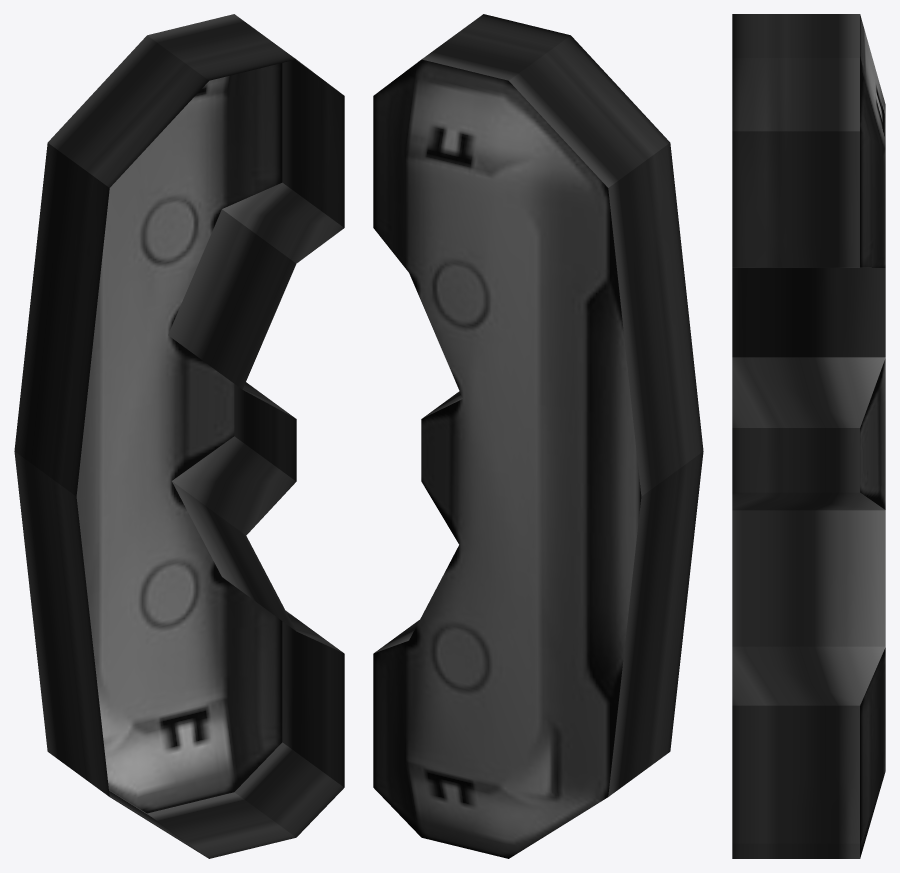
File: gallo99_caliperstock_fl_rb1c_tire_1k_0.001_lev3.glb
3 views of the same model, side by side, from view 1: azimuth 30°, elevation 25°; view 2: azimuth 150°, elevation 25°; view 3: azimuth 270°, elevation 25° (orthographic). The views are drawn at different scales.
Visible parts, largest first — view 1: gallo99_caliperstock_fl_rb1c_tire_1k_0.001_lev3; view 2: gallo99_caliperstock_fl_rb1c_tire_1k_0.001_lev3; view 3: gallo99_caliperstock_fl_rb1c_tire_1k_0.001_lev3.
Boxes of the visible parts, x1,y1,x2,y2 form: gallo99_caliperstock_fl_rb1c_tire_1k_0.001_lev3: (14,14,344,858); gallo99_caliperstock_fl_rb1c_tire_1k_0.001_lev3: (373,14,703,858); gallo99_caliperstock_fl_rb1c_tire_1k_0.001_lev3: (732,14,885,858).
Size of the model in its own units: 0.0618 by 0.1716 by 0.0298.
1 material, 1 textured.
